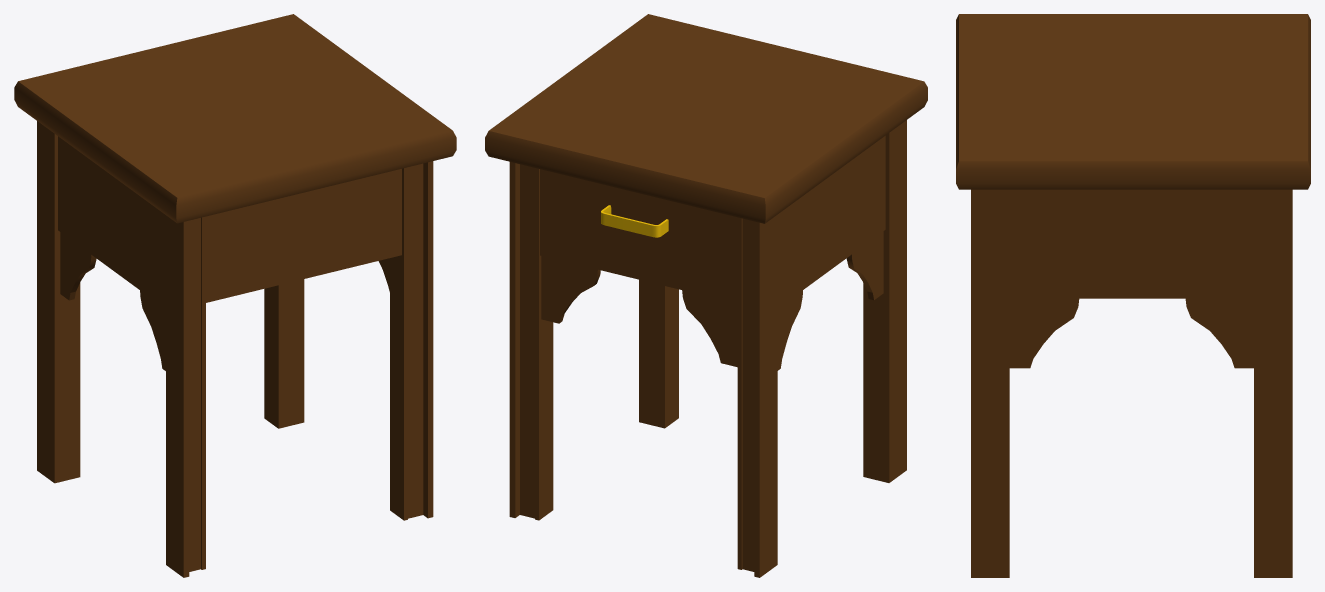
File: desk(comp).fbx
3 renders of one model, left to right at view 1: azimuth 30°, elevation 25°; view 2: azimuth 150°, elevation 25°; view 3: azimuth 270°, elevation 25°, orthographic. The views are drawn at different scales.
Visible parts, largest first — view 1: table; view 2: table; view 3: table.
Boxes of the visible parts, box(x1,y1,x2,y2) form: table: box(14, 14, 456, 577); table: box(485, 14, 927, 577); table: box(956, 14, 1310, 577).
Size of the model in its own units: 2.54 by 3.35 by 2.54.
Materials: 1 (1 with a texture image).
